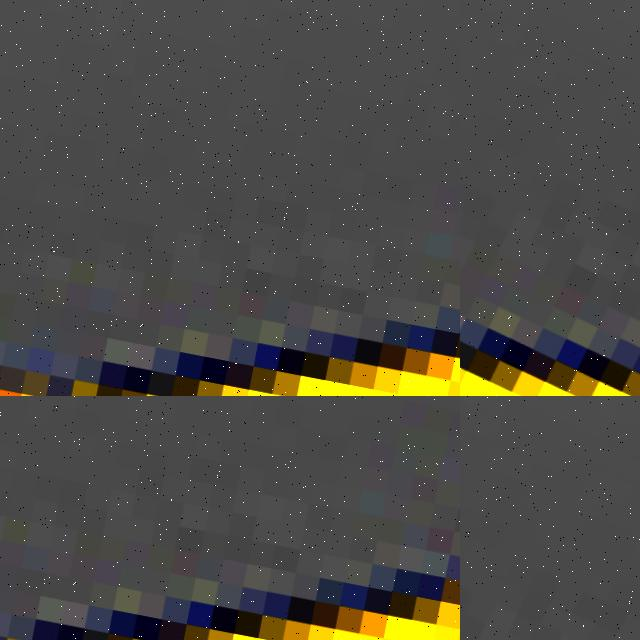drone: (460, 0, 640, 396), (460, 396, 640, 640)
